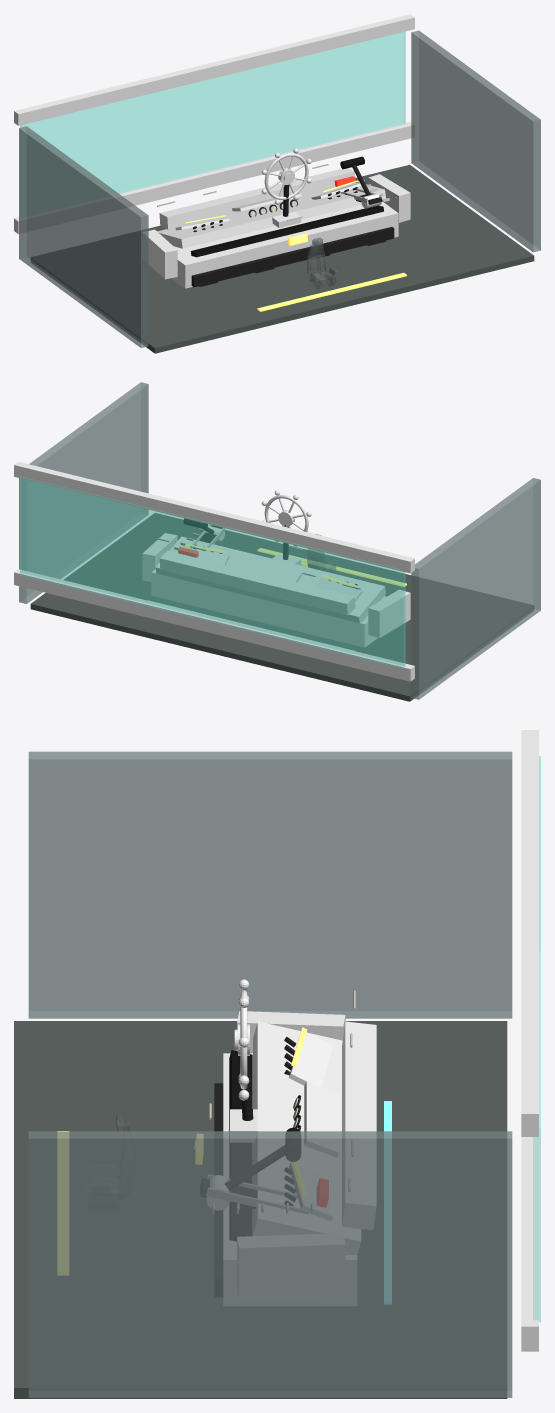
The model's file is ck_ctl02_low.glb.
3 views of the same model, one above another, from view 1: azimuth 30°, elevation 25°; view 2: azimuth 150°, elevation 25°; view 3: azimuth 270°, elevation 25° (orthographic). The views are drawn at different scales.
Visible parts, largest first — view 1: cockpit floor footprint proxy, front broad window screen proxy, right cockpit wall proxy, left cockpit wall proxy, front upper frame proxy, front lower sill proxy, single-piece heavy lower console base, sloped main control deck, raised rear instrument coaming, front armored lower kick plate, recessed black hand rest strip, left angled side cheek (+4 smaller); view 2: front broad window screen proxy, cockpit floor footprint proxy, left cockpit wall proxy, right cockpit wall proxy, front lower sill proxy, front upper frame proxy, single-piece heavy lower console base, raised rear instrument coaming, sloped main control deck, left angled side cheek, right angled side cheek, central blank armored control plate (+3 smaller); view 3: cockpit floor footprint proxy, right cockpit wall proxy, left cockpit wall proxy, sloped main control deck, front upper frame proxy, right angled side cheek, raised rear instrument coaming, front lower sill proxy, single-piece heavy lower console base, central blank armored control plate, recessed black hand rest strip, front broad window screen proxy (+7 smaller).
Boxes of the visible parts, x1,y1,x2,y2 form: cockpit floor footprint proxy: [31, 164, 534, 353]; front broad window screen proxy: [20, 32, 405, 193]; right cockpit wall proxy: [411, 30, 540, 252]; left cockpit wall proxy: [19, 126, 148, 347]; front upper frame proxy: [14, 14, 414, 125]; front lower sill proxy: [14, 121, 414, 234]; single-piece heavy lower console base: [171, 201, 398, 288]; sloped main control deck: [157, 182, 385, 248]; raised rear instrument coaming: [159, 168, 355, 229]; front armored lower kick plate: [191, 227, 394, 287]; recessed black hand rest strip: [190, 205, 383, 257]; left angled side cheek: [142, 229, 177, 279]; front broad window screen proxy: [20, 477, 405, 668]; cockpit floor footprint proxy: [30, 513, 533, 701]; left cockpit wall proxy: [411, 478, 540, 699]; right cockpit wall proxy: [19, 382, 148, 603]; front lower sill proxy: [14, 569, 414, 681]; front upper frame proxy: [14, 462, 414, 573]; single-piece heavy lower console base: [151, 569, 386, 647]; raised rear instrument coaming: [159, 551, 355, 615]; sloped main control deck: [155, 536, 385, 622]; left angled side cheek: [368, 589, 410, 637]; right angled side cheek: [142, 533, 177, 581]; central blank armored control plate: [235, 558, 301, 581]; cockpit floor footprint proxy: [14, 1021, 507, 1398]; right cockpit wall proxy: [28, 1131, 512, 1397]; left cockpit wall proxy: [28, 751, 512, 1018]; sloped main control deck: [253, 1021, 360, 1254]; front upper frame proxy: [521, 730, 538, 1136]; right angled side cheek: [237, 1233, 345, 1301]; raised rear instrument coaming: [342, 1021, 376, 1229]; front lower sill proxy: [521, 1137, 538, 1351]; single-piece heavy lower console base: [223, 1053, 356, 1305]; central blank armored control plate: [304, 1081, 339, 1156]; recessed black hand rest strip: [229, 1050, 252, 1241]; front broad window screen proxy: [533, 756, 540, 1322].
Size of the model in its own units: 9.28 by 3.28 by 5.34.
